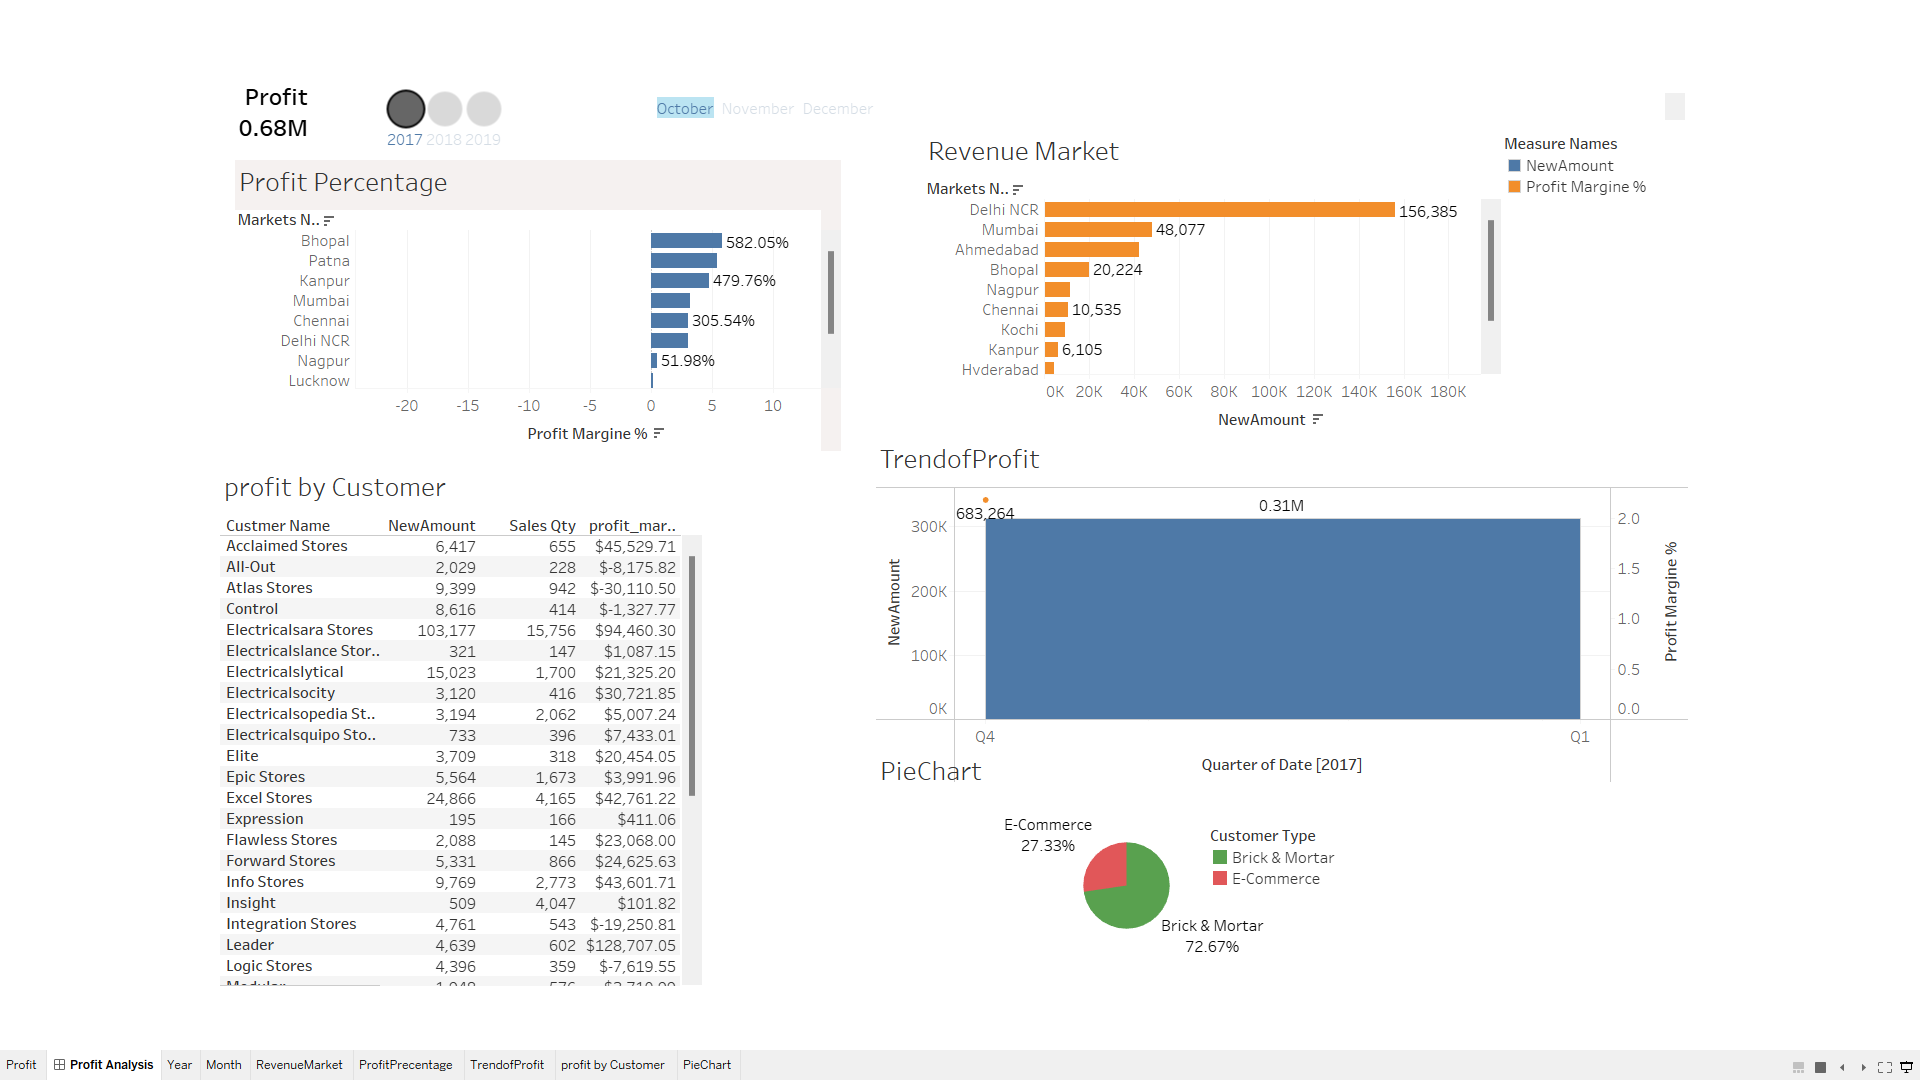

Layout of this report page (visuals, bound fields, positions):
{"tool":"tableau","page":{"name":"Profit Analysis","canvas":[1169,827],"ordinal":0},"visuals":[{"type":"worksheet","title":"Profit","mark":"Automatic","box":[0,2,121,74]},{"type":"worksheet","title":"Year","mark":"Circle","box":[129,9,276,142]},{"type":"worksheet","title":"Month","mark":"Automatic","box":[339,15,819,38]},{"type":"worksheet","title":"RevenueMarket","mark":"Bar","rows":["markets_name"],"cols":["Calculation_3886043563603206144"],"box":[556,61,456,275]},{"type":"legend","title":"TrendofProfit","param":"[federated.188qqla0yofzex1179l4w0fmmvf1].[:Measure Names]","box":[1014,64,147,64]},{"type":"worksheet","title":"ProfitPrecentage","mark":"Automatic","rows":["markets_name"],"cols":["Calculation_4423097819418034178"],"box":[12,88,531,260]},{"type":"worksheet","title":"TrendofProfit","mark":"Line","rows":["Calculation_3886043563603206144","Calculation_4423097819418034178"],"cols":["date"],"box":[521,310,642,309]},{"type":"worksheet","title":"profit by Customer","mark":"Automatic","rows":["custmer_name"],"box":[0,360,511,465]},{"type":"legend","title":"PieChart","param":"[federated.188qqla0yofzex1179l4w0fmmvf1].[sum:Calculation_3886043563603206144:qk","box":[514,603,174,43]},{"type":"worksheet","title":"PieChart","mark":"Pie","box":[674,631,396,199]}]}

Visuals, with their boxes on the page's 1169x827 design canvas (x1, y1, x2, y2). These are canvas units, not pixel positions in the 1920x1080 screenshot, which may show the page scaled, cropped or inside an application window:
"Profit" worksheet: x1=0 y1=2 x2=121 y2=76
"Year" worksheet (Circle marks): x1=129 y1=9 x2=405 y2=151
"Month" worksheet: x1=339 y1=15 x2=1158 y2=53
"RevenueMarket" worksheet (Bar marks): x1=556 y1=61 x2=1012 y2=336
"TrendofProfit" legend: x1=1014 y1=64 x2=1161 y2=128
"ProfitPrecentage" worksheet: x1=12 y1=88 x2=543 y2=348
"TrendofProfit" worksheet (Line marks): x1=521 y1=310 x2=1163 y2=619
"profit by Customer" worksheet: x1=0 y1=360 x2=511 y2=825
"PieChart" legend: x1=514 y1=603 x2=688 y2=646
"PieChart" worksheet (Pie marks): x1=674 y1=631 x2=1070 y2=830
